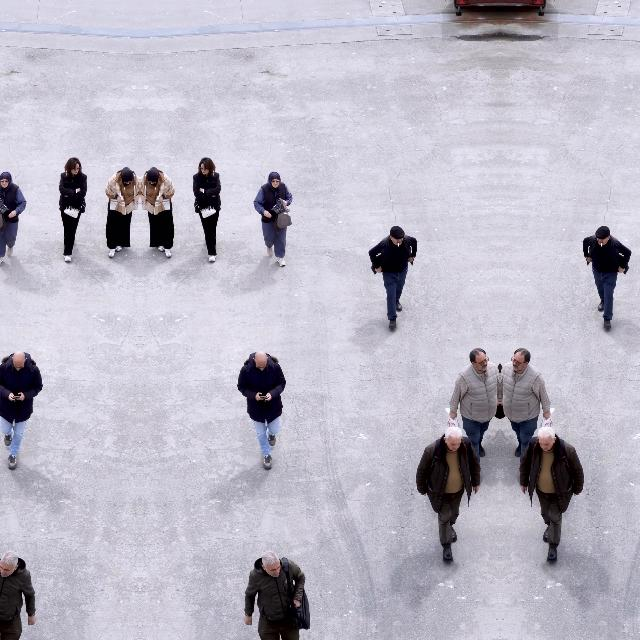person: (416, 426, 480, 562), (520, 426, 584, 562), (237, 351, 287, 469), (448, 348, 500, 460), (500, 348, 552, 460), (243, 551, 306, 640), (368, 226, 418, 330), (582, 226, 632, 330), (0, 351, 43, 469), (253, 171, 293, 267), (140, 166, 176, 258), (104, 166, 140, 258), (0, 551, 36, 640), (192, 158, 222, 262), (58, 158, 88, 262), (0, 171, 27, 267)
